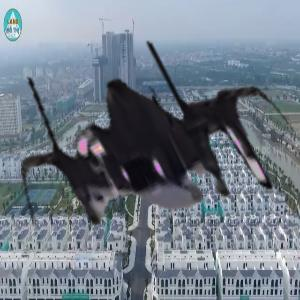drone: (5, 5, 299, 299)
